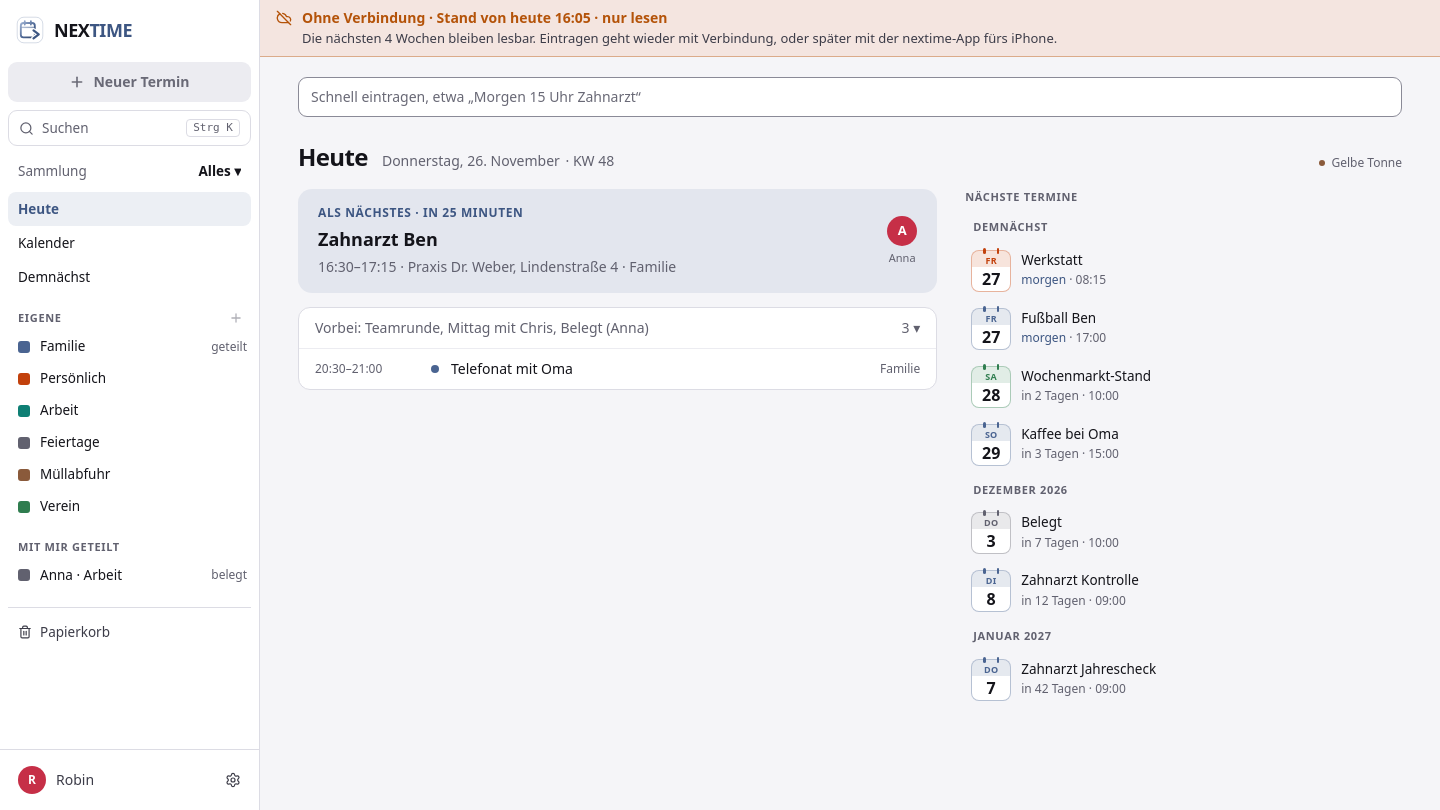
TIME-28 without a connection › TIME-28 AC-3 the installed app reads the kept 4 weeks, says so in orange and turns off all that changes something
This screenshot has width=1440, height=810.
Expected: the button with test id "add-calendar" is disabled, [225,307,247,329]
Click the button that starts with "Als Nächstes · in 25 Minuten" at [421, 212], box [298,189,937,293]
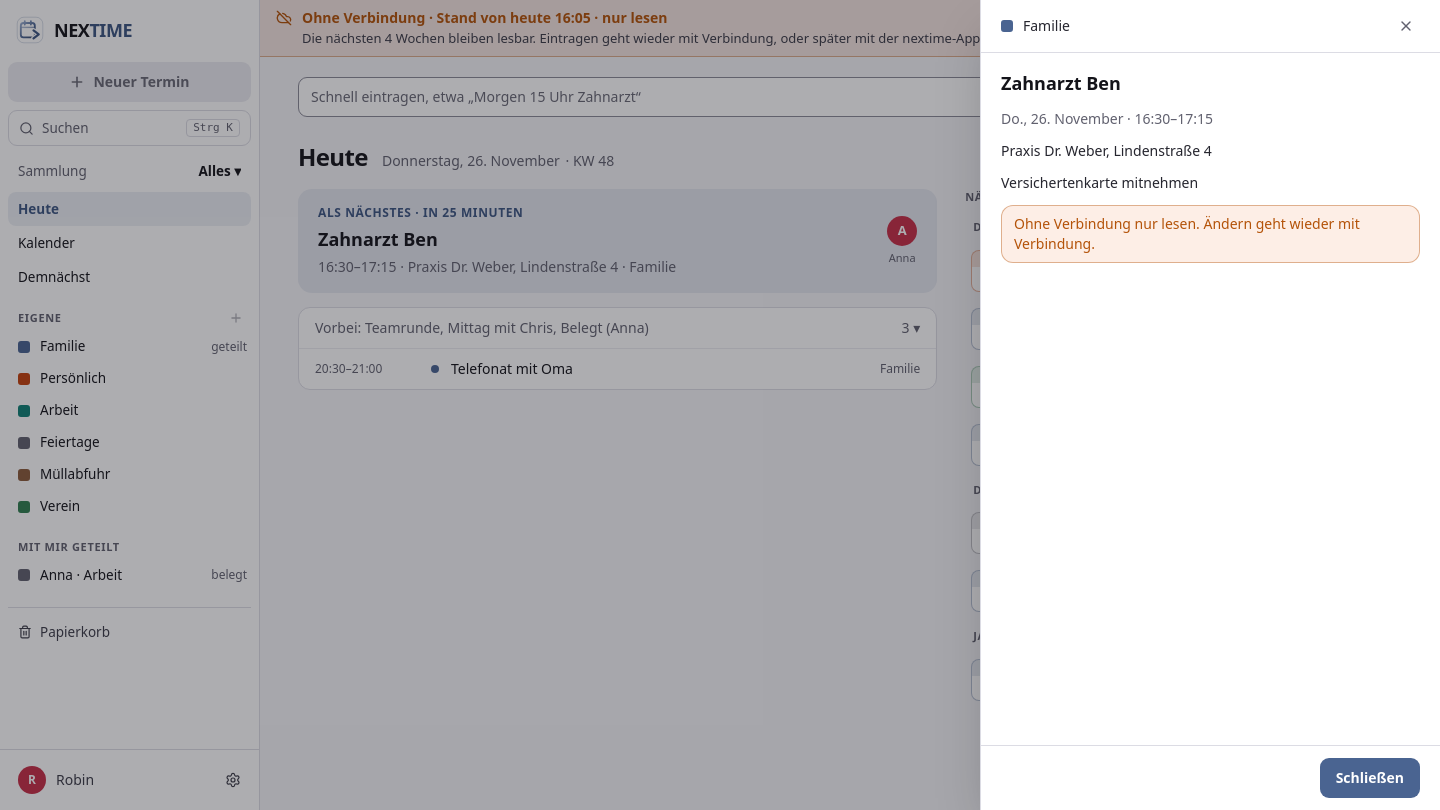
Now the text "Versichertenkarte mitnehmen" is shown, box [1001,173,1198,192]
